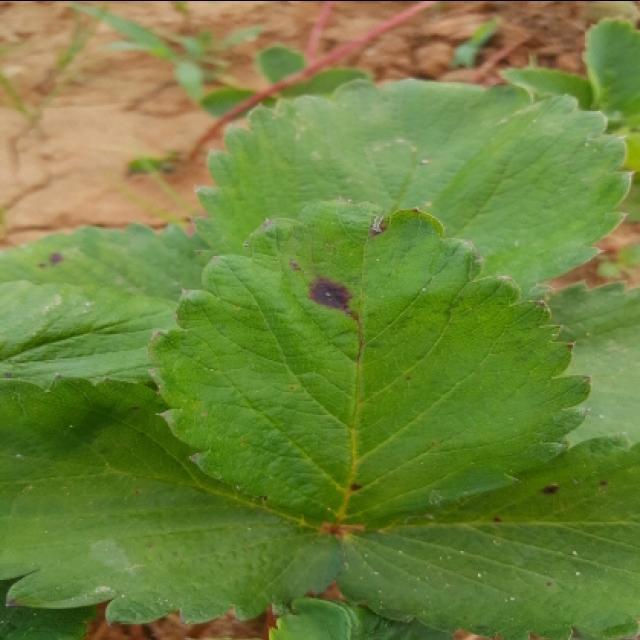Leaf Spot: (146, 196, 593, 529), (0, 374, 338, 625), (332, 434, 638, 638), (0, 215, 214, 387)
